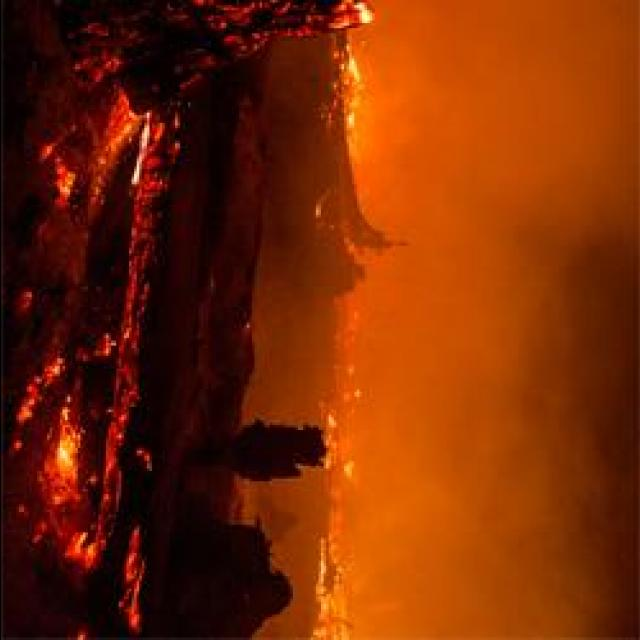fire: (44, 408, 80, 515), (307, 567, 350, 640), (122, 531, 148, 632), (336, 42, 364, 130), (332, 0, 372, 31)
smoke: (359, 246, 563, 404)
